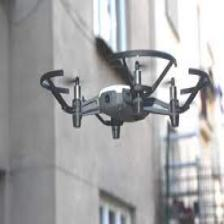drone: (40, 49, 209, 130)
